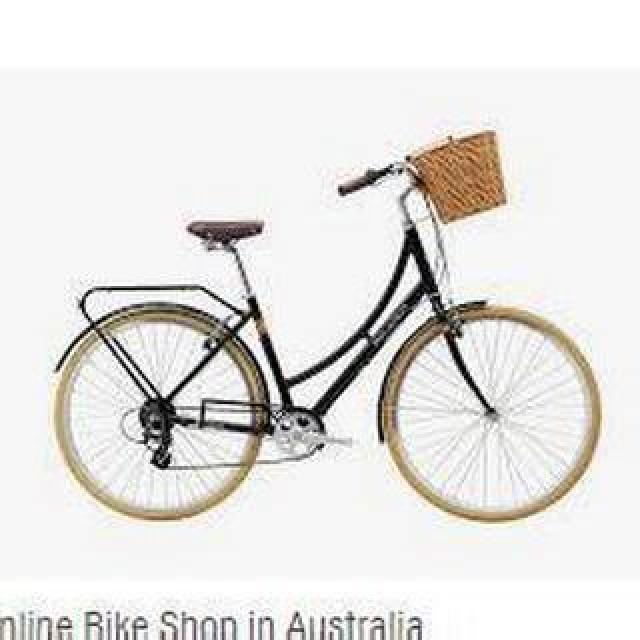Person: (57, 128, 603, 532)
